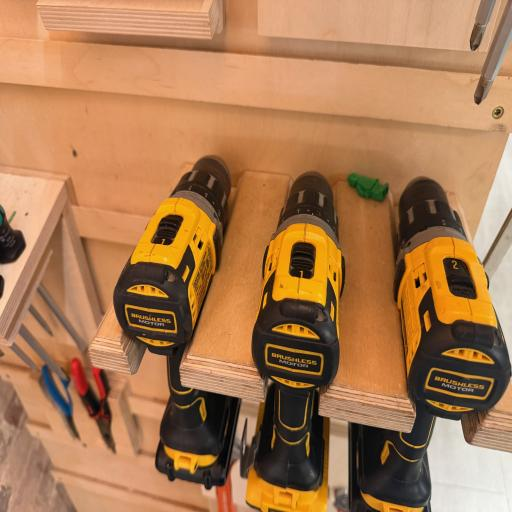Lego-Dude: (347, 172, 388, 201)
